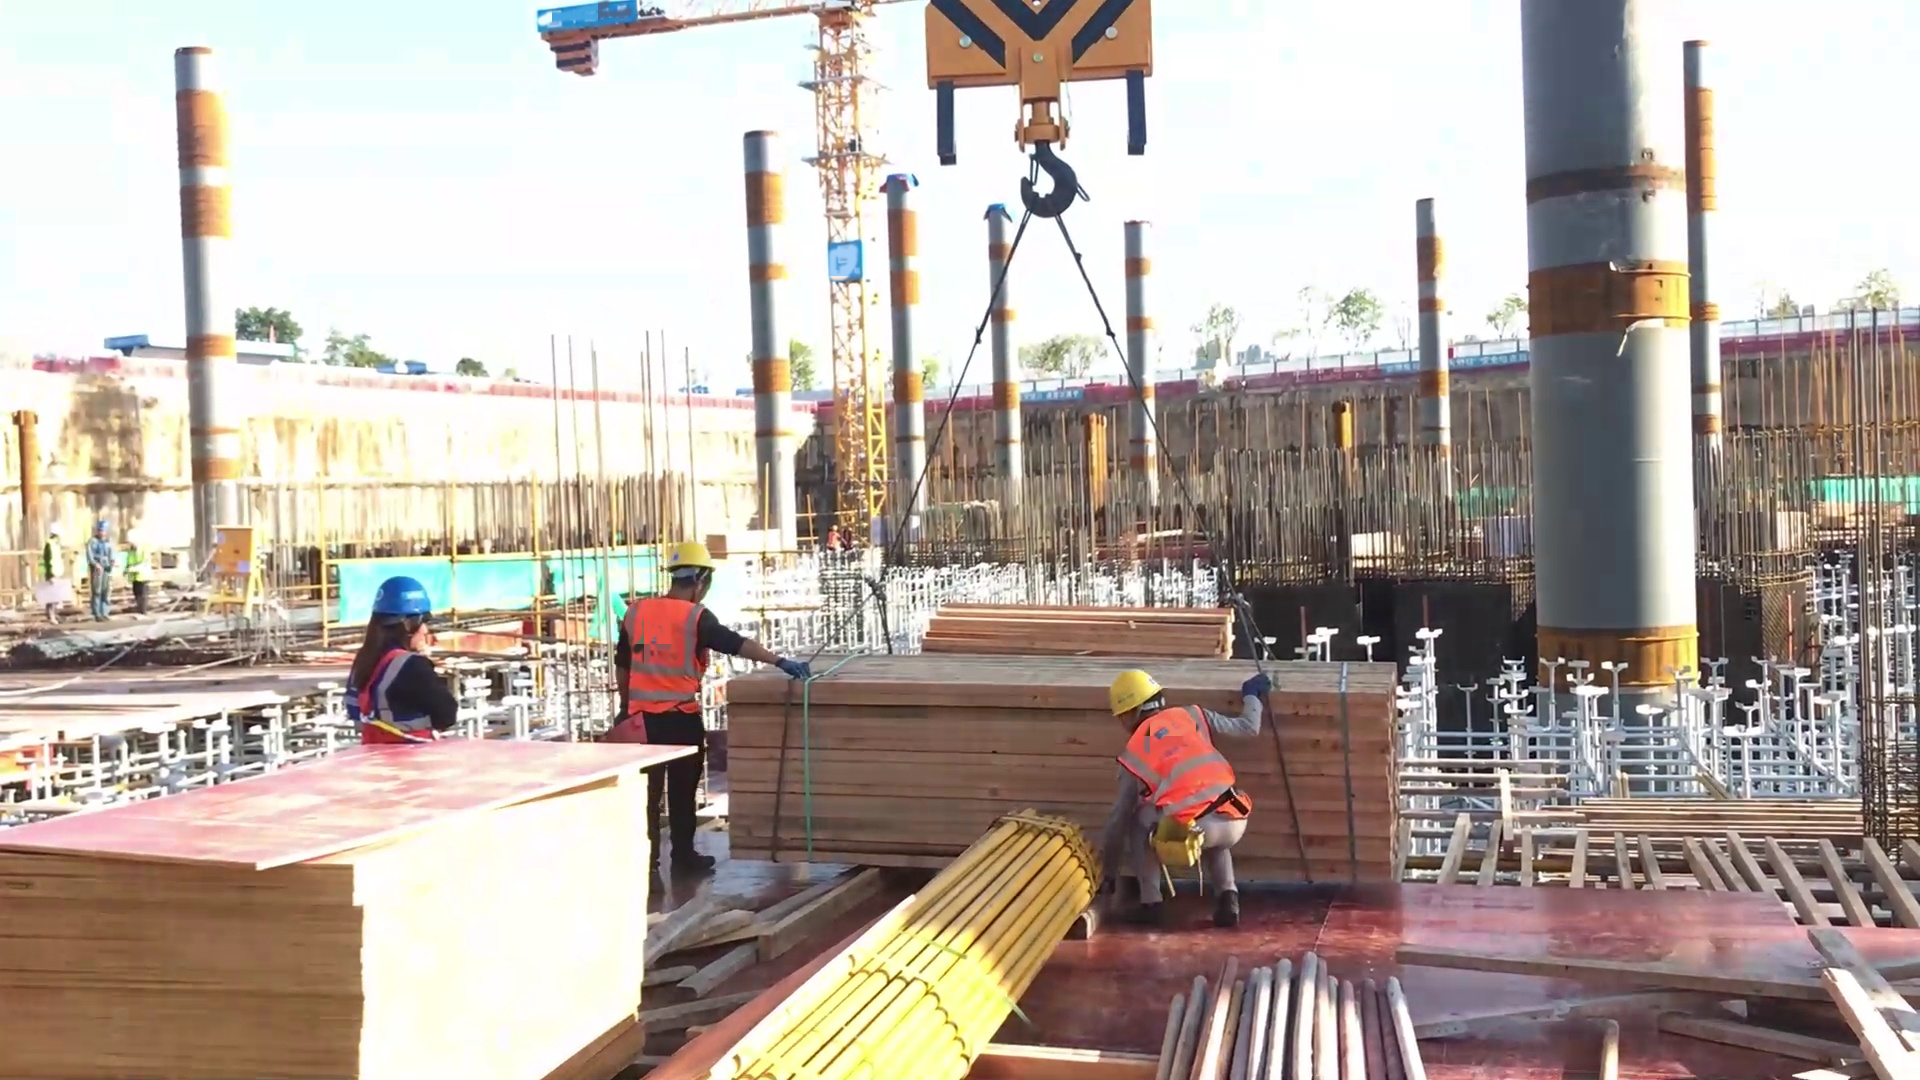board: (1, 734, 733, 1079)
ebox: (201, 520, 273, 610)
helmet: (361, 560, 443, 631), (1109, 666, 1170, 714), (639, 547, 720, 583)
hook: (932, 1, 1175, 231)
person: (588, 539, 800, 889), (1074, 629, 1266, 943), (335, 566, 471, 753), (86, 516, 121, 615), (123, 535, 163, 610), (40, 526, 69, 607)
vest: (1111, 696, 1259, 829), (333, 631, 446, 753), (616, 587, 712, 723)
wood: (689, 638, 1400, 877)
